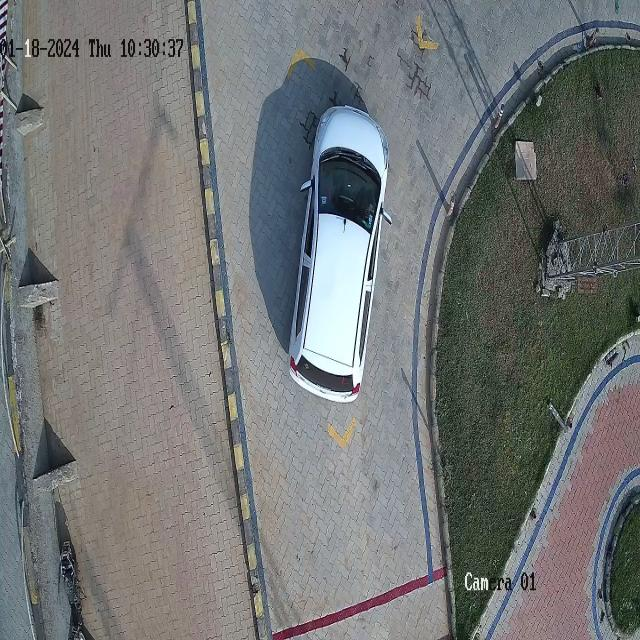car: (289, 107, 391, 401)
